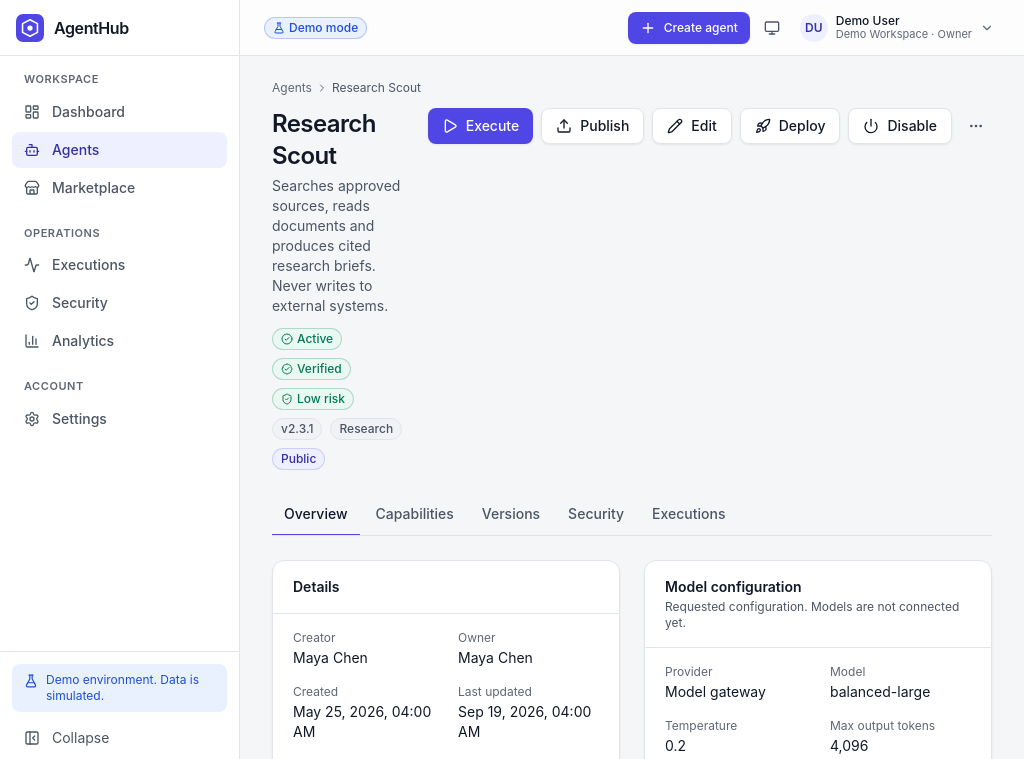
Scenario: agent details › shows permitted capabilities with permission indicators
Expected: the heading "Research Scout" is shown, left=272, top=109, right=376, bottom=170
Click the tab "Capabilities": (415, 515) left=364, top=494, right=466, bottom=536
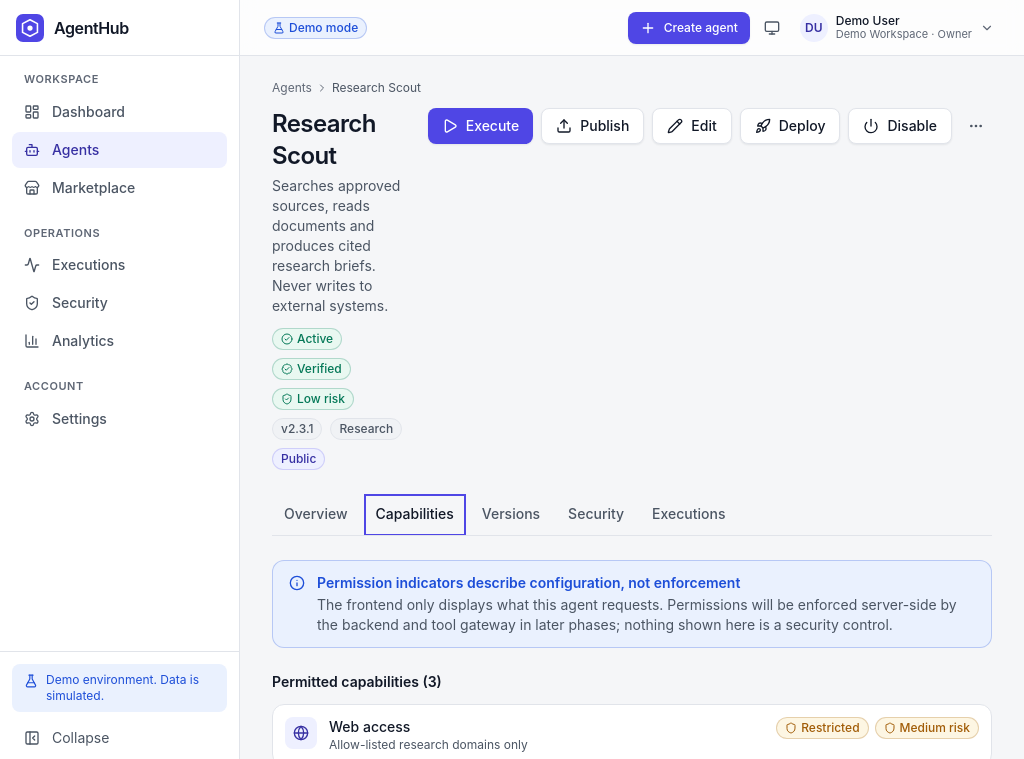
Now the text "Web access" is shown, box left=329, top=718, right=410, bottom=735
Now the text "Restricted" is shown, box left=801, top=720, right=860, bottom=736
Now the text "nothing shown here is a security control" is shown, box left=317, top=596, right=957, bottom=633
